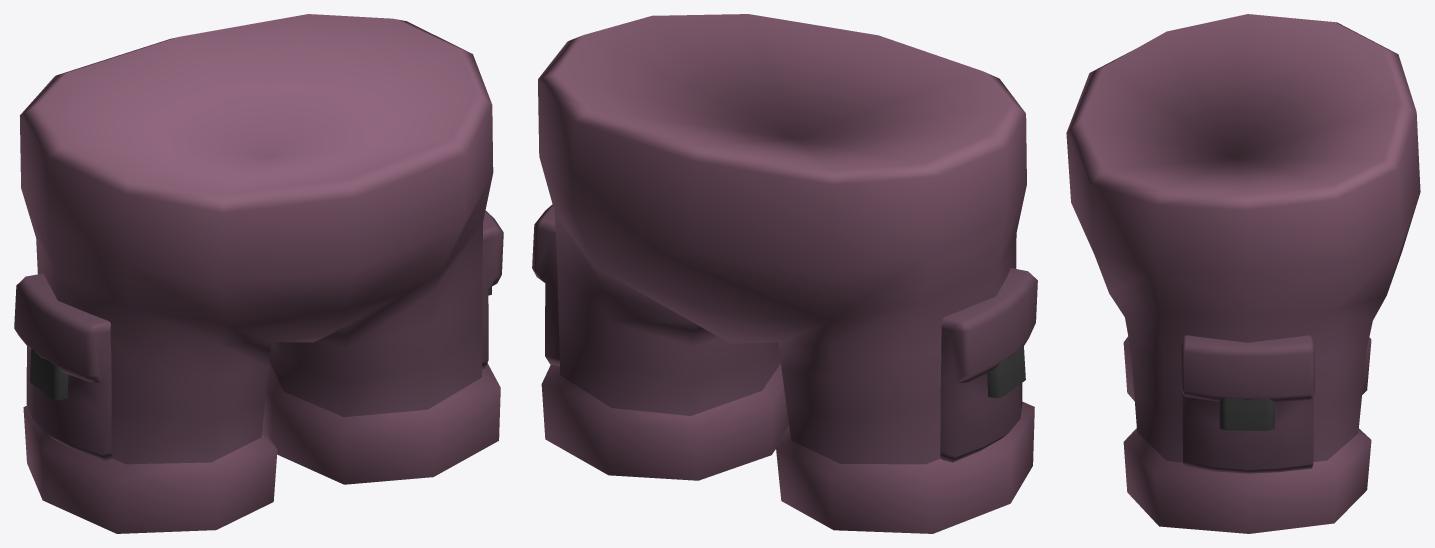
The model's file is Bottom_12.fbx.
3 renders of one model, left to right at view 1: azimuth 30°, elevation 25°; view 2: azimuth 150°, elevation 25°; view 3: azimuth 270°, elevation 25°, orthographic. The views are drawn at different scales.
Visible parts, largest first — view 1: Bottom_12; view 2: Bottom_12; view 3: Bottom_12.
Boxes of the visible parts, x1=… form: Bottom_12: x1=14, y1=14, x2=503, y2=533; Bottom_12: x1=532, y1=14, x2=1037, y2=533; Bottom_12: x1=1066, y1=14, x2=1420, y2=533.
Bounding box in the file's own units: 40.16 × 32.12 × 29.68.
